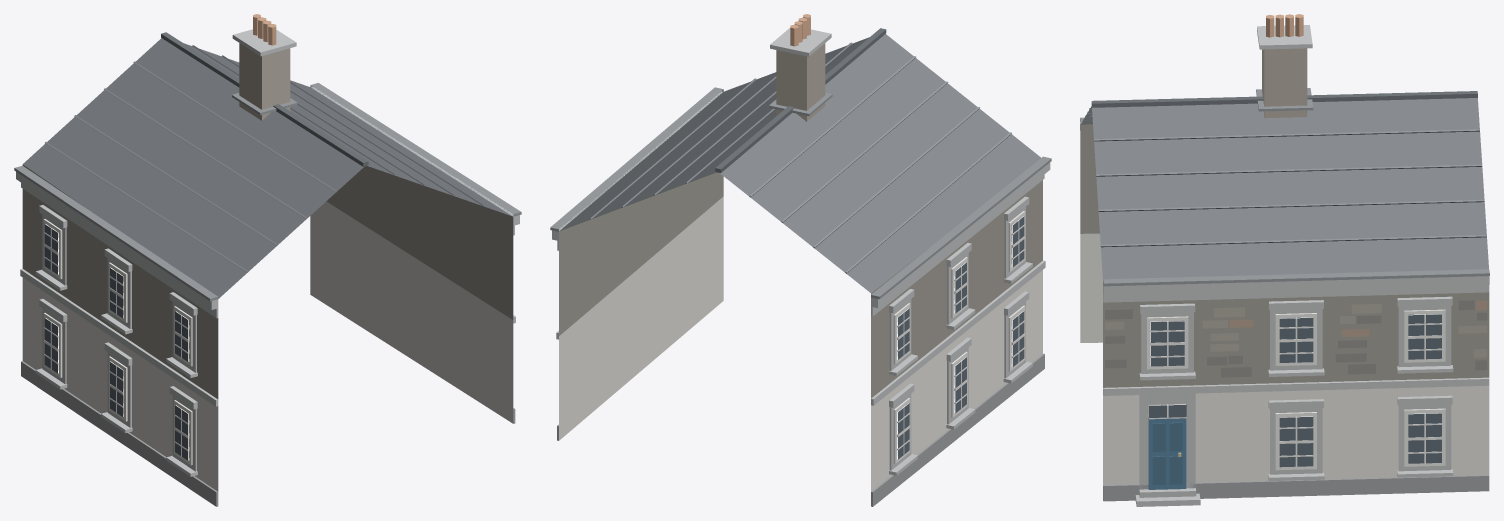
3 views of the same model, side by side, from view 1: azimuth 30°, elevation 25°; view 2: azimuth 150°, elevation 25°; view 3: azimuth 270°, elevation 25° (orthographic). The views are drawn at different scales.
Parts seen in each view (by area): view 1: slate, harl, rubble, stone_band, lead, slate_lt, frame, plinth, chim_stone, slate_dk, window_glass_001, window_glass_002 (+2 smaller); view 2: slate, harl, rubble, stone_band, lead, slate_lt, frame, chim_stone, plinth, slate_dk, window_glass_001, window_glass_005; view 3: slate, stone_band, harl, rubble, frame, plinth, slate_lt, lead, chim_stone, rubble_dk, slate_dk, rubble_lt (+10 smaller).
Boxes of the visible parts, <box> form: slate: <box>23,38,512,298</box>; harl: <box>22,201,513,491</box>; rubble: <box>22,164,513,399</box>; stone_band: <box>16,29,519,476</box>; lead: <box>14,83,521,301</box>; slate_lt: <box>45,45,484,272</box>; frame: <box>43,219,192,465</box>; plinth: <box>21,361,515,506</box>; chim_stone: <box>239,43,290,120</box>; slate_dk: <box>161,32,368,166</box>; window_glass_001: <box>44,318,58,373</box>; window_glass_002: <box>44,224,58,274</box>; slate: <box>559,34,1040,292</box>; harl: <box>559,196,1042,491</box>; rubble: <box>559,172,1042,398</box>; stone_band: <box>552,28,1050,475</box>; lead: <box>550,87,1051,299</box>; slate_lt: <box>589,42,1011,273</box>; frame: <box>893,211,1025,463</box>; chim_stone: <box>776,43,825,121</box>; plinth: <box>557,353,1044,506</box>; slate_dk: <box>715,28,886,172</box>; window_glass_001: <box>897,403,909,459</box>; window_glass_005: <box>1012,311,1024,367</box>; slate: <box>1080,98,1488,279</box>; stone_band: <box>1080,25,1489,506</box>; harl: <box>1080,233,1489,485</box>; rubble: <box>1080,124,1489,387</box>; frame: <box>1147,309,1445,470</box>; plinth: <box>1103,475,1489,501</box>; slate_lt: <box>1082,108,1486,247</box>; lead: <box>1080,88,1489,286</box>; chim_stone: <box>1262,48,1307,118</box>; rubble_dk: <box>1105,300,1487,377</box>; slate_dk: <box>1091,91,1477,107</box>; rubble_lt: <box>1105,303,1487,357</box>.
Size of the model in its own units: 10.97 by 11.73 by 10.88.
